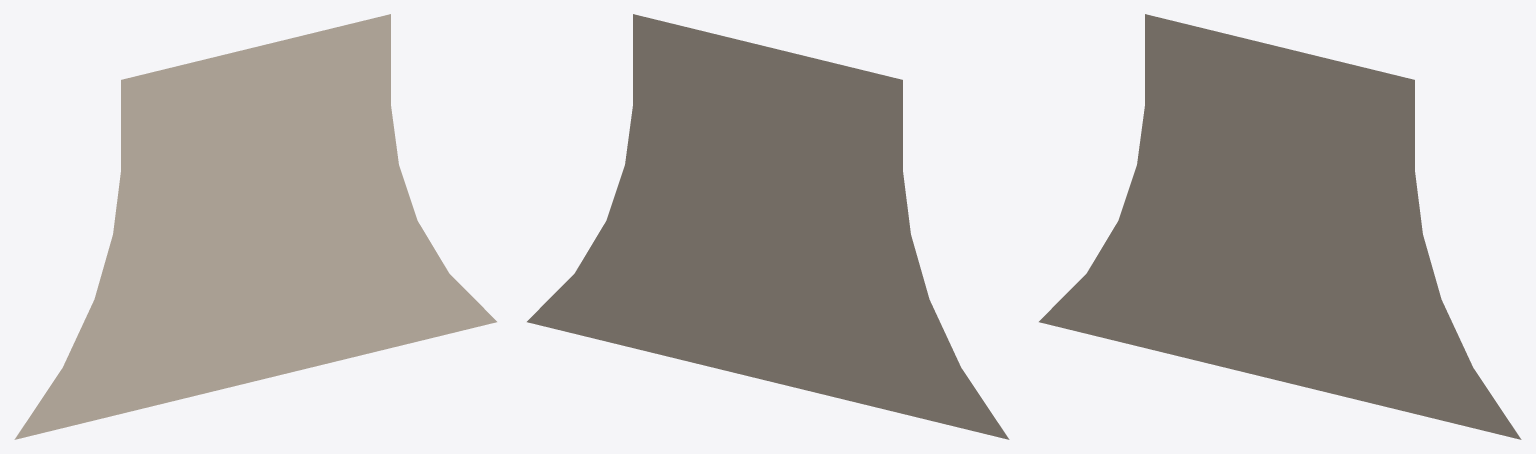
File: ytlds_Object (24).fbx
3 views of the same model, side by side, from view 1: azimuth 30°, elevation 25°; view 2: azimuth 150°, elevation 25°; view 3: azimuth 330°, elevation 25° (orthographic).
Parts seen in each view (by area): view 1: Object24; view 2: Object24; view 3: Object24.
Boxes of the visible parts, left/top/right/bottom form: Object24: left=14, top=14, right=496, bottom=439; Object24: left=527, top=14, right=1009, bottom=439; Object24: left=1039, top=14, right=1521, bottom=439.
Bounding box in the file's own units: 547 × 361 × 0.
